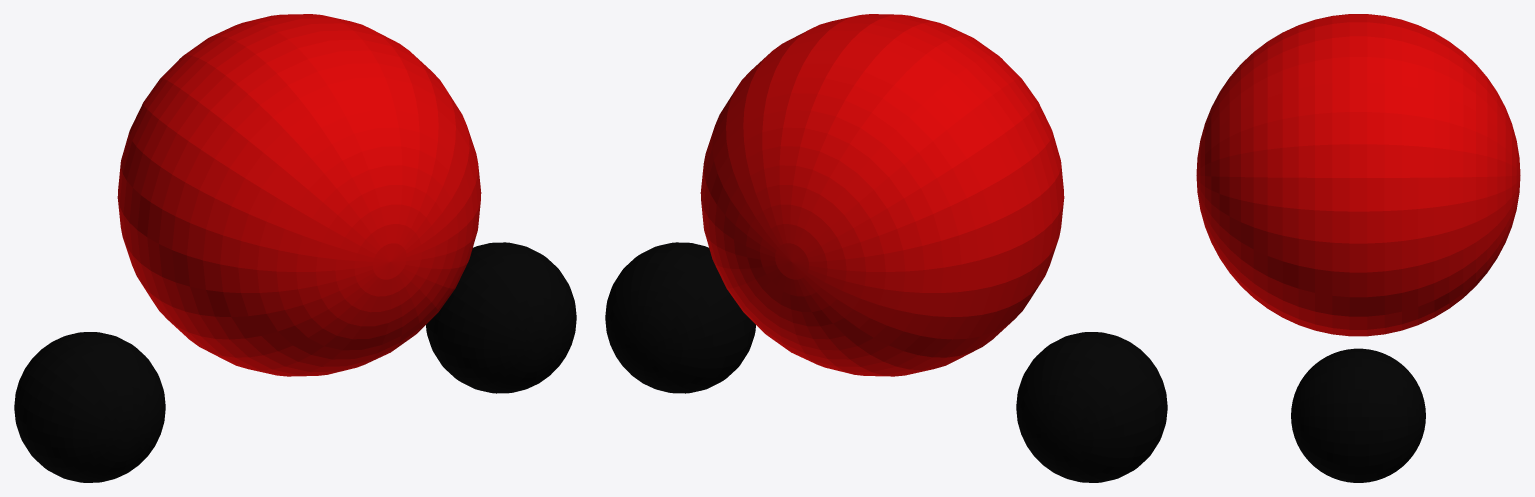
The model's file is Water.glb.
3 renders of one model, left to right at view 1: azimuth 30°, elevation 25°; view 2: azimuth 150°, elevation 25°; view 3: azimuth 270°, elevation 25°, orthographic. The views are drawn at different scales.
Parts seen in each view (by area): view 1: world; view 2: world; view 3: world.
Boxes of the visible parts, x1,y1,x2,y2 form: world: [14, 14, 576, 482]; world: [605, 14, 1167, 482]; world: [1196, 14, 1520, 482].
Size of the model in its own units: 2.06 by 1.47 by 1.2.
